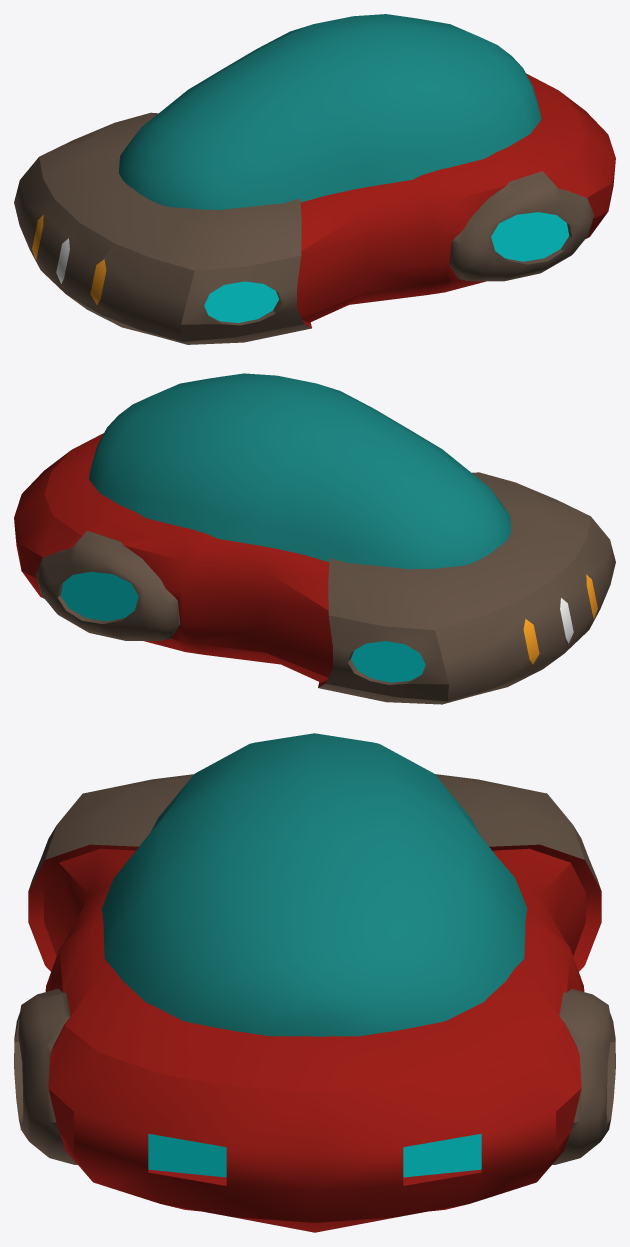
File: SM_auto_1.fbx
3 renders of one model, top to bottom at view 1: azimuth 30°, elevation 25°; view 2: azimuth 150°, elevation 25°; view 3: azimuth 270°, elevation 25°, orthographic. The views are drawn at different scales.
Visible parts, largest first — view 1: SM_auto_1; view 2: SM_auto_1; view 3: SM_auto_1.
Part boxes in pixels (bbox=[...]): SM_auto_1: bbox=[14, 14, 615, 344]; SM_auto_1: bbox=[14, 373, 615, 704]; SM_auto_1: bbox=[14, 733, 615, 1232].
Size of the model in its own units: 503 by 201 by 335.
